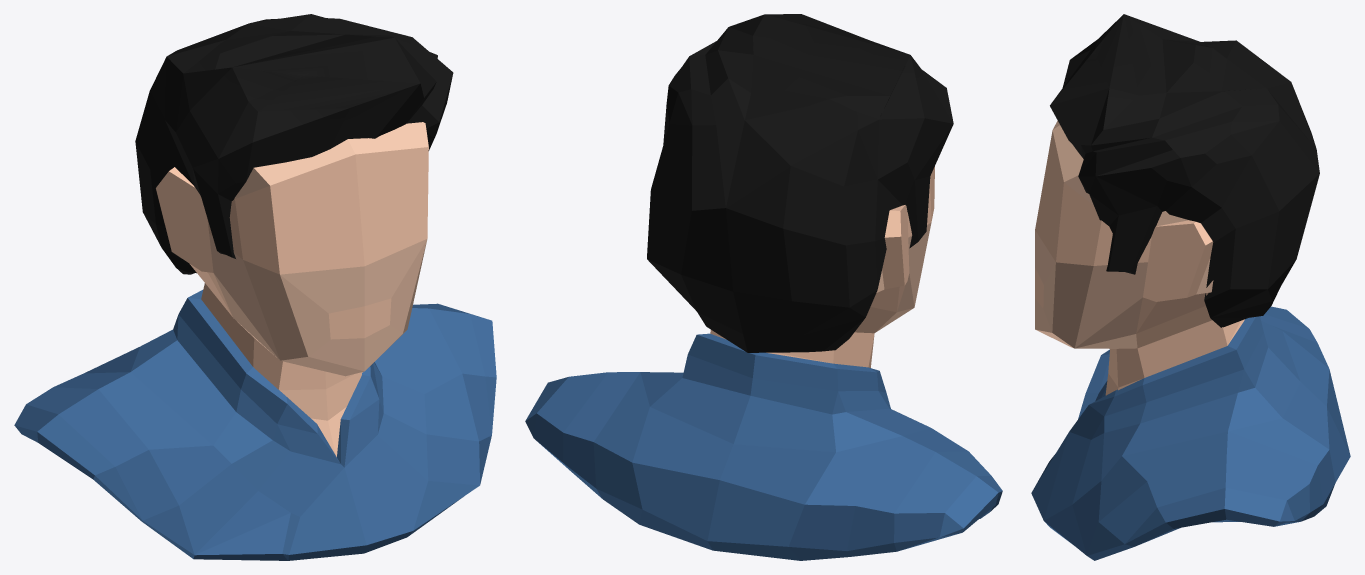
The model's file is Man.glb.
3 views of the same model, side by side, from view 1: azimuth 30°, elevation 25°; view 2: azimuth 150°, elevation 25°; view 3: azimuth 270°, elevation 25° (orthographic). The views are drawn at different scales.
Parts seen in each view (by area): view 1: man; view 2: man; view 3: man.
Part boxes in pixels (x1=…): man: x1=14, y1=14, x2=496, y2=560; man: x1=525, y1=14, x2=1002, y2=560; man: x1=1031, y1=14, x2=1350, y2=560.
Bounding box in the file's own units: 0.4809 × 0.4795 × 0.308.
1 material, 1 textured.
